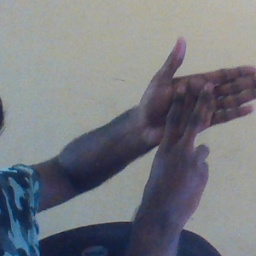N: (132, 34, 256, 185)
